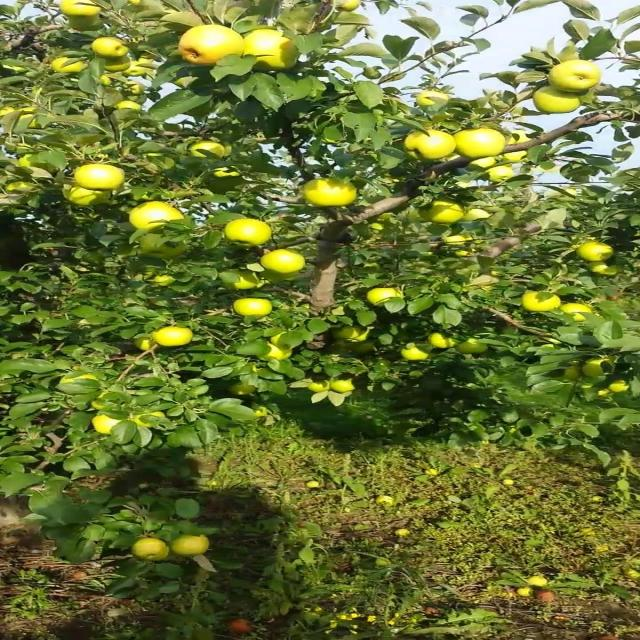apple: (177, 24, 242, 68), (248, 28, 302, 72), (305, 176, 361, 209), (547, 60, 604, 92), (134, 200, 187, 232), (404, 132, 457, 163), (454, 128, 505, 160), (532, 88, 583, 116), (77, 164, 128, 191), (227, 220, 276, 248), (63, 184, 117, 208), (276, 8, 324, 35), (141, 236, 190, 260), (262, 248, 308, 273), (419, 200, 464, 225), (518, 292, 562, 314), (163, 12, 210, 31), (170, 536, 212, 557), (92, 36, 133, 57), (220, 272, 263, 292), (134, 540, 171, 563), (191, 140, 233, 160), (234, 300, 277, 319), (575, 244, 619, 262), (63, 16, 107, 34), (582, 356, 617, 378), (156, 328, 194, 348), (49, 56, 89, 75), (262, 336, 292, 361), (92, 412, 121, 436), (369, 288, 405, 307), (63, 0, 105, 16), (561, 304, 596, 323), (333, 324, 372, 341), (504, 132, 537, 151), (127, 56, 156, 77), (454, 340, 491, 356), (99, 56, 133, 73), (426, 332, 460, 349), (262, 344, 293, 362), (419, 92, 453, 108), (134, 412, 167, 428), (227, 380, 258, 397), (262, 272, 302, 285), (468, 156, 500, 172), (404, 344, 434, 361), (340, 12, 372, 27), (490, 168, 519, 184), (589, 264, 624, 277), (461, 208, 491, 223), (348, 340, 377, 355), (333, 376, 357, 394), (127, 64, 155, 78), (227, 620, 256, 633), (113, 100, 142, 113), (92, 394, 114, 411), (20, 112, 41, 129), (134, 336, 156, 352), (212, 168, 242, 179), (333, 380, 356, 394), (504, 152, 530, 164), (561, 368, 583, 382), (340, 0, 364, 12), (611, 380, 633, 393), (177, 76, 199, 89), (63, 376, 98, 384), (156, 276, 178, 288), (6, 184, 34, 193), (312, 380, 331, 393), (376, 496, 398, 507), (20, 156, 37, 169), (99, 76, 117, 86), (131, 4, 153, 11), (255, 408, 270, 417), (127, 0, 146, 7), (532, 580, 548, 588), (518, 588, 533, 596), (376, 560, 391, 568), (582, 528, 597, 536), (6, 108, 20, 116), (518, 592, 533, 596)
